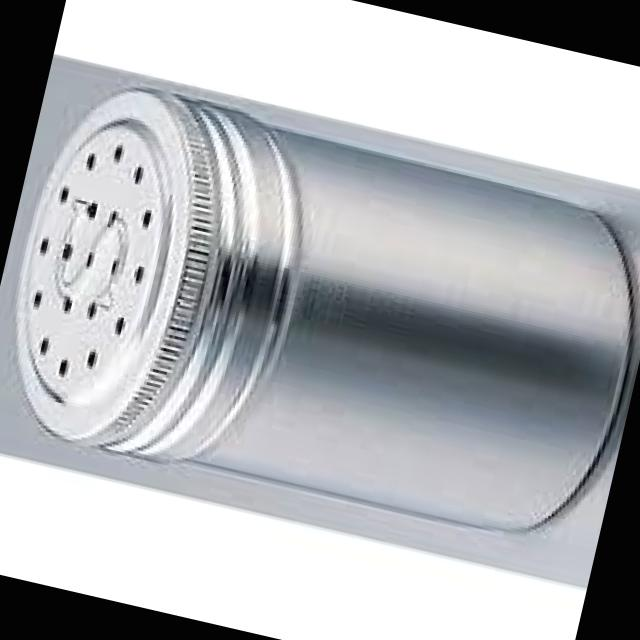metal: (17, 90, 631, 529)
